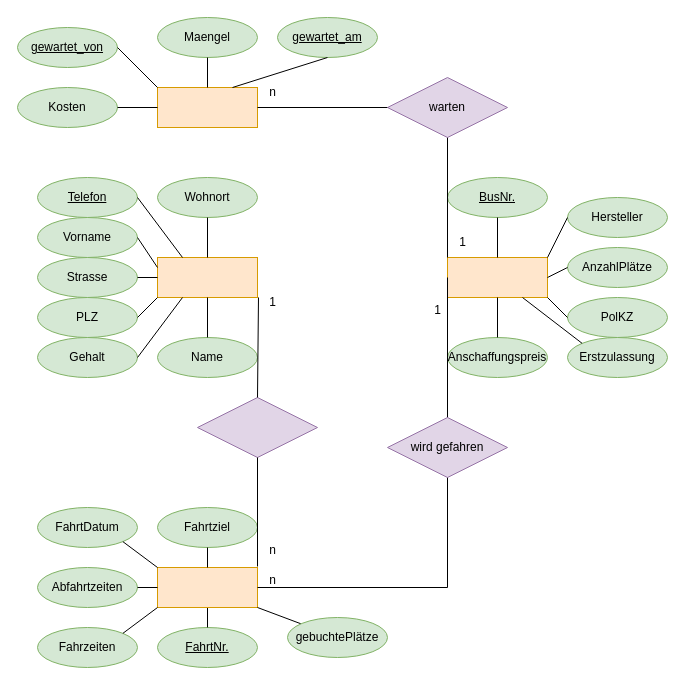
Image size: 685x685. Some labels were removed from this diagram. Here are the shapes that lost their labels. From the top down, the centre of each, then its label:
At point 207,107: "Reperatur".
At point 207,277: "Fahrer".
At point 497,277: "Bus".
At point 257,427: "fährt".
At point 207,587: "Fahrt".
